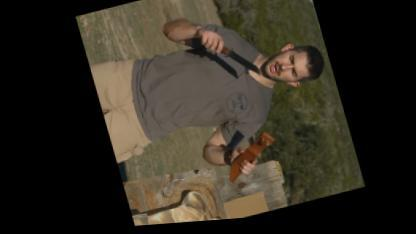knife: (199, 23, 266, 93)
